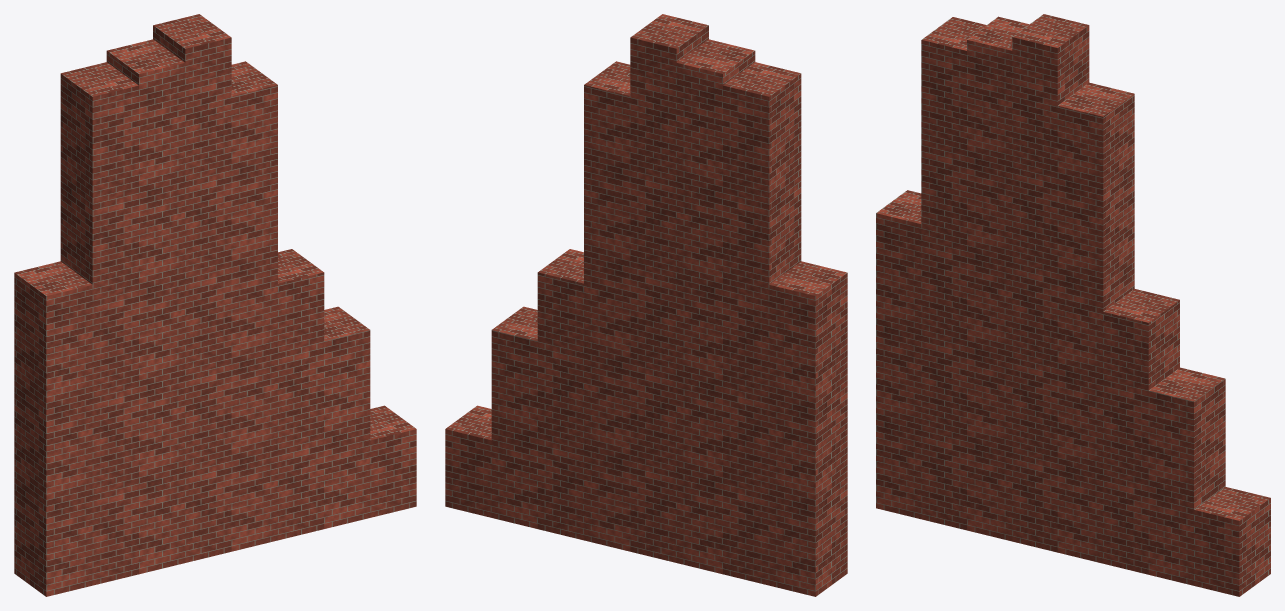
The model's file is Ruin_Wall_1_LOD2.gltf.
3 views of the same model, side by side, from view 1: azimuth 30°, elevation 25°; view 2: azimuth 150°, elevation 25°; view 3: azimuth 330°, elevation 25° (orthographic).
Parts seen in each view (by area): view 1: Ruin_Wall_1_LOD2; view 2: Ruin_Wall_1_LOD2; view 3: Ruin_Wall_1_LOD2.
Part boxes in pixels (x1,y1,x2,y2): Ruin_Wall_1_LOD2: (14,14,416,596); Ruin_Wall_1_LOD2: (445,14,847,596); Ruin_Wall_1_LOD2: (876,14,1270,596).
Bounding box in the file's own units: 4 × 5.31 × 0.6.
Materials: 1 (1 with a texture image).
